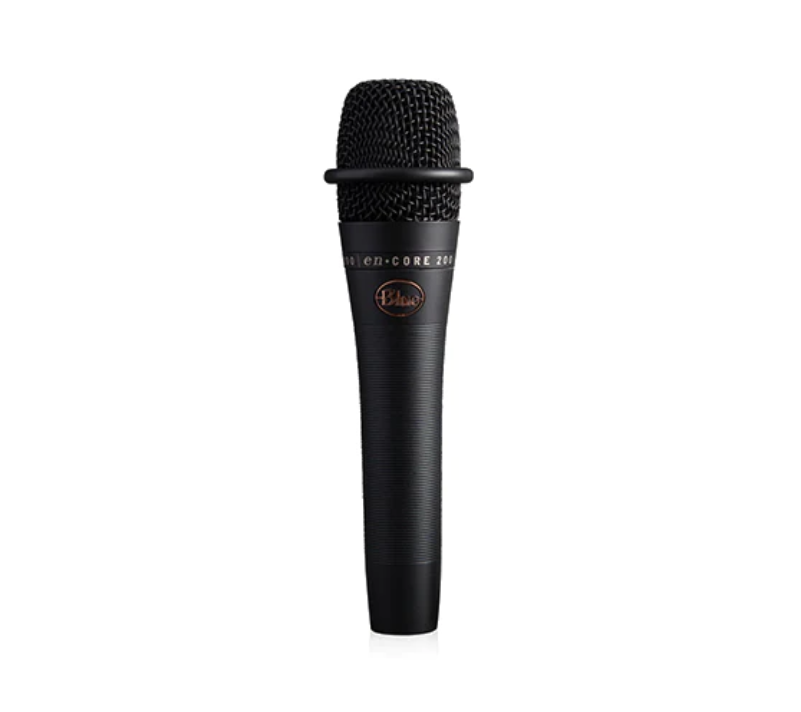microphone: (322, 76, 475, 636)
